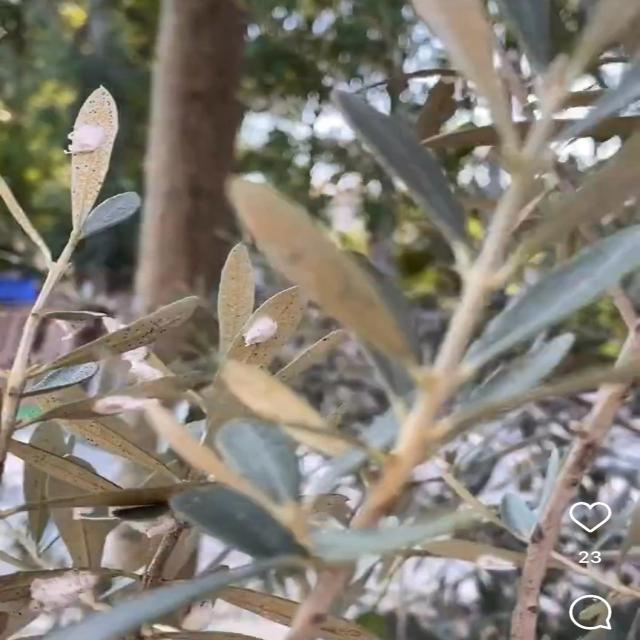Psyllid: (65, 86, 119, 231), (29, 570, 111, 612), (111, 504, 182, 538), (234, 314, 278, 357)
